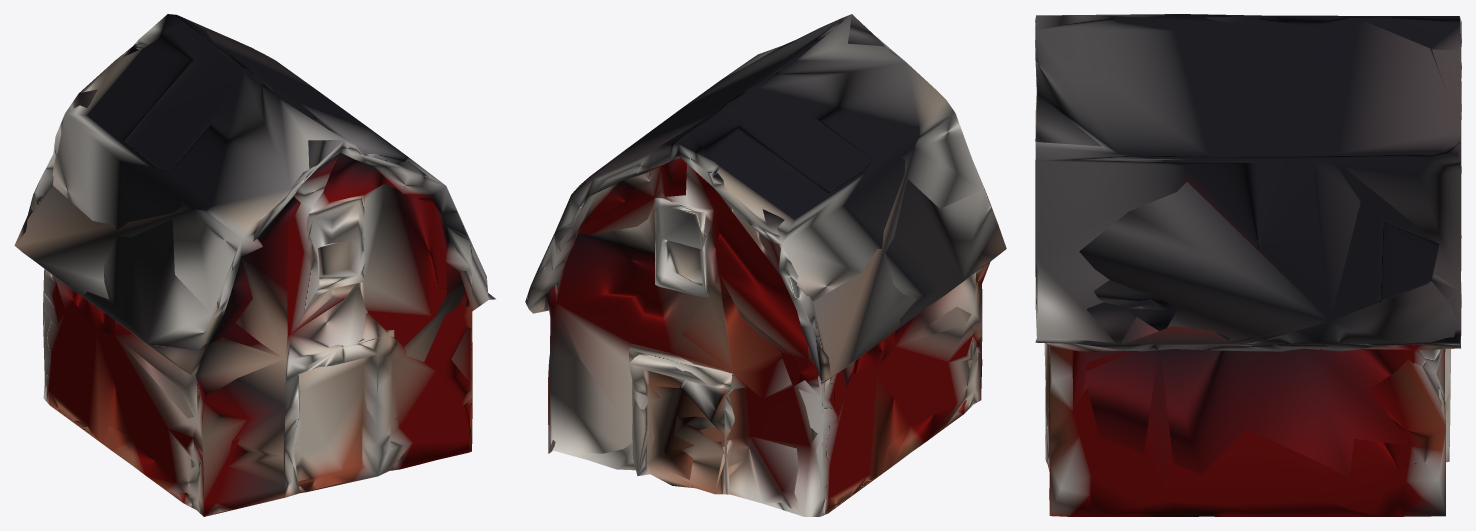
Rendered from gen3d-red-barn-lod0.glb.
3 renders of one model, left to right at view 1: azimuth 30°, elevation 25°; view 2: azimuth 150°, elevation 25°; view 3: azimuth 270°, elevation 25°, orthographic. The views are drawn at different scales.
Parts seen in each view (by area): view 1: part_0; view 2: part_0; view 3: part_0.
Boxes of the visible parts, x1=… form: part_0: x1=14, y1=14, x2=495, y2=516; part_0: x1=525, y1=14, x2=1006, y2=516; part_0: x1=1035, y1=14, x2=1461, y2=516.
Size of the model in its own units: 0.9217 by 0.998 by 0.9133.
